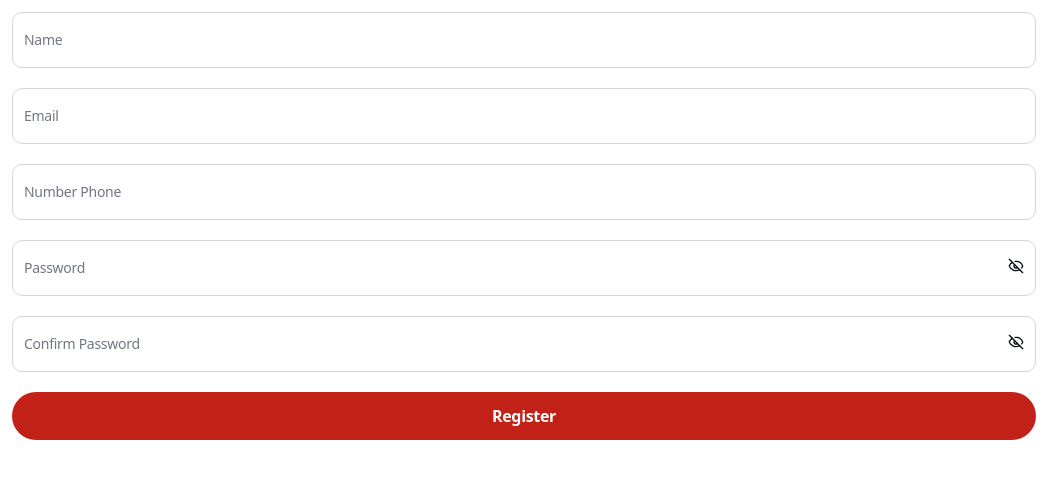
it: RegisterForm › rejects submission when confirm password does not match
Type "Yusuf" into the field with placeholder "Name". click: (524, 40)
box: [12,12,1036,68]
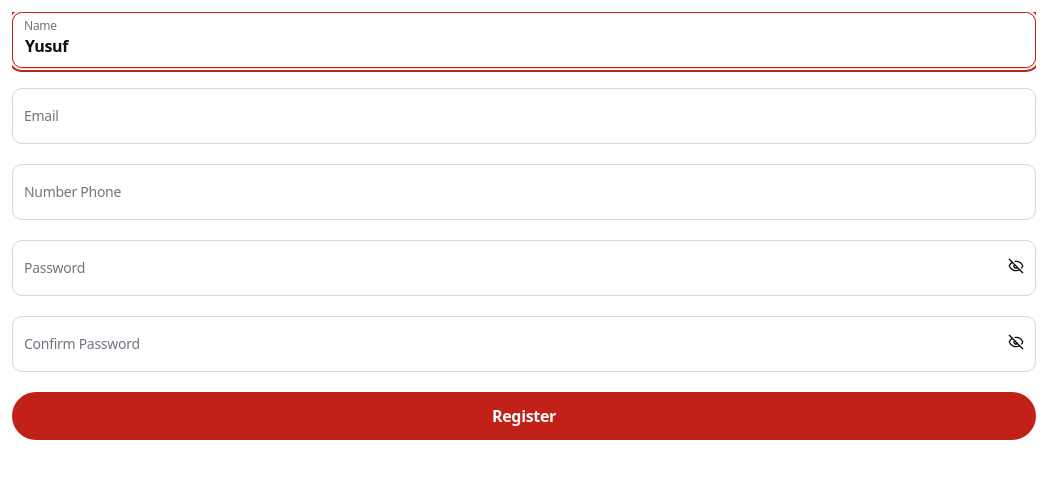
Type "yusuf@example.com" into the field with placeholder "Email". click: (524, 116)
box: [12,88,1036,144]
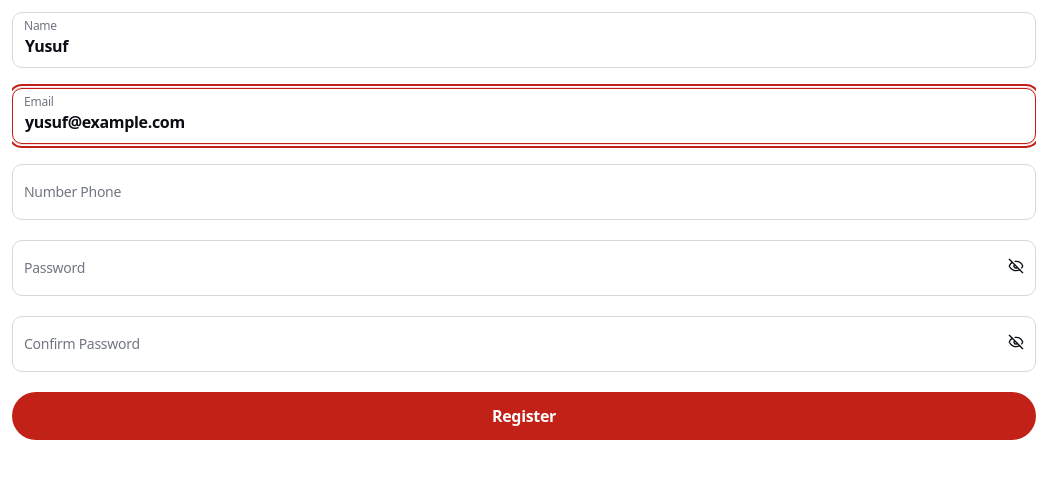
Type "081234567890" into the field with placeholder "Number Phone". click: (524, 192)
box: [12,164,1036,220]
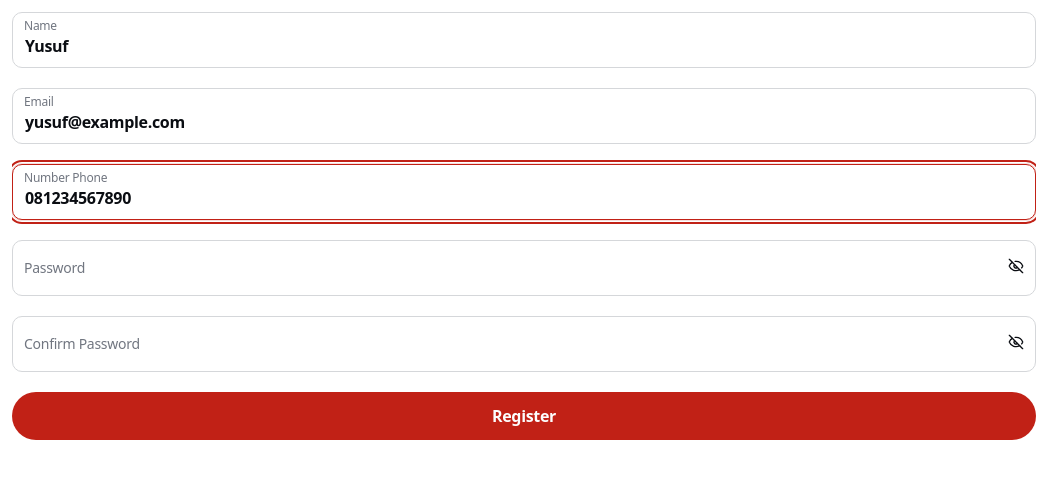
Type "secret1" into the password field with placeholder "Password". click: (524, 268)
box: [12,240,1036,296]
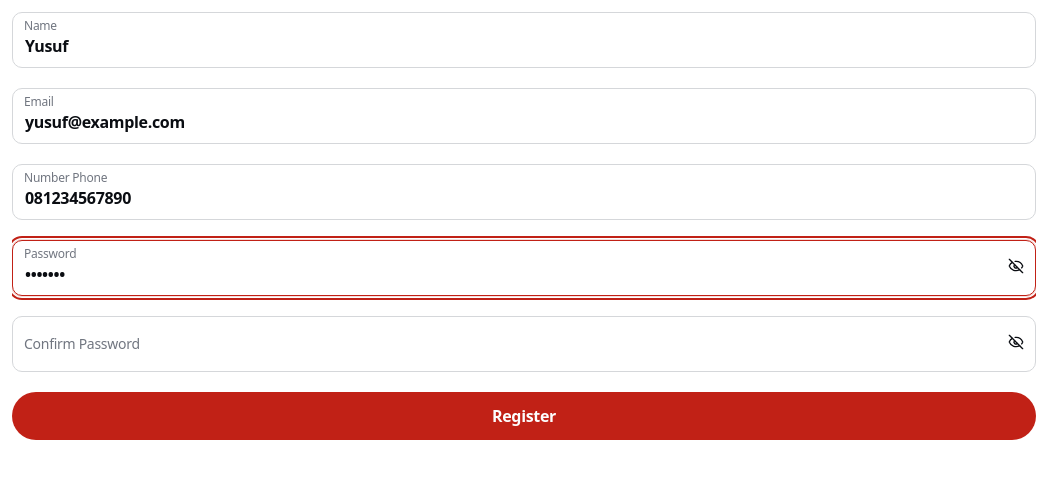
Type "different" into the password field with placeholder "Confirm Password". click: (524, 344)
box: [12,316,1036,372]
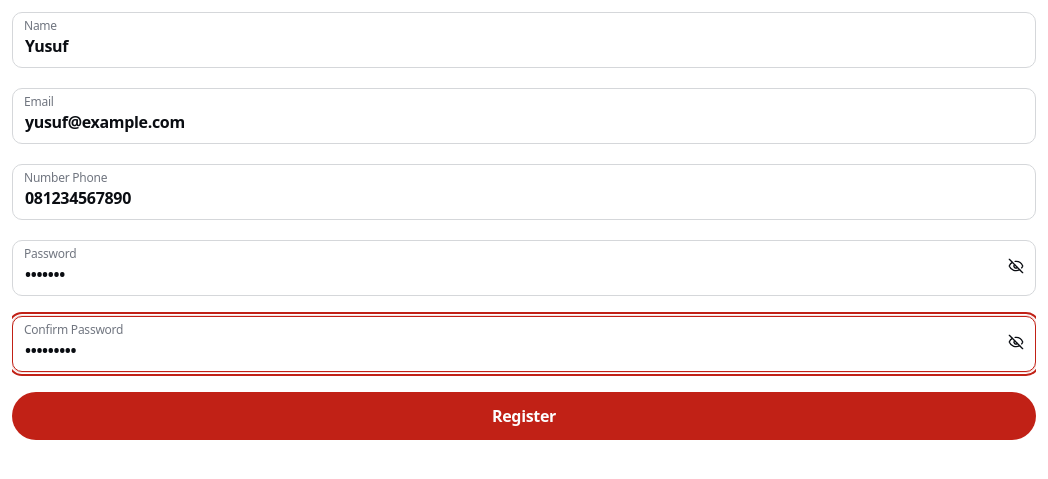
Click the button "Register". click: (524, 416)
box: [12,392,1036,440]
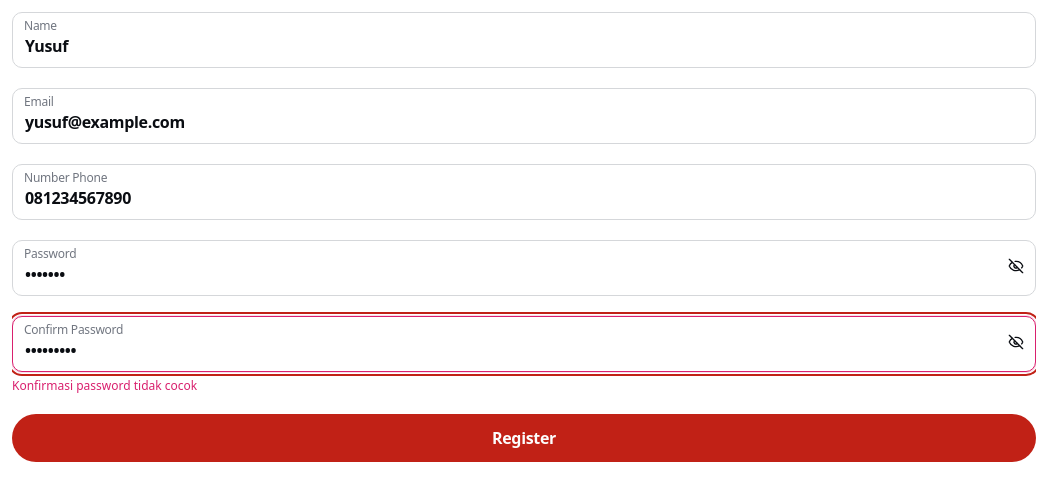
Check: the text "Konfirmasi password tidak cocok" is shown, box [12,377,197,394]
